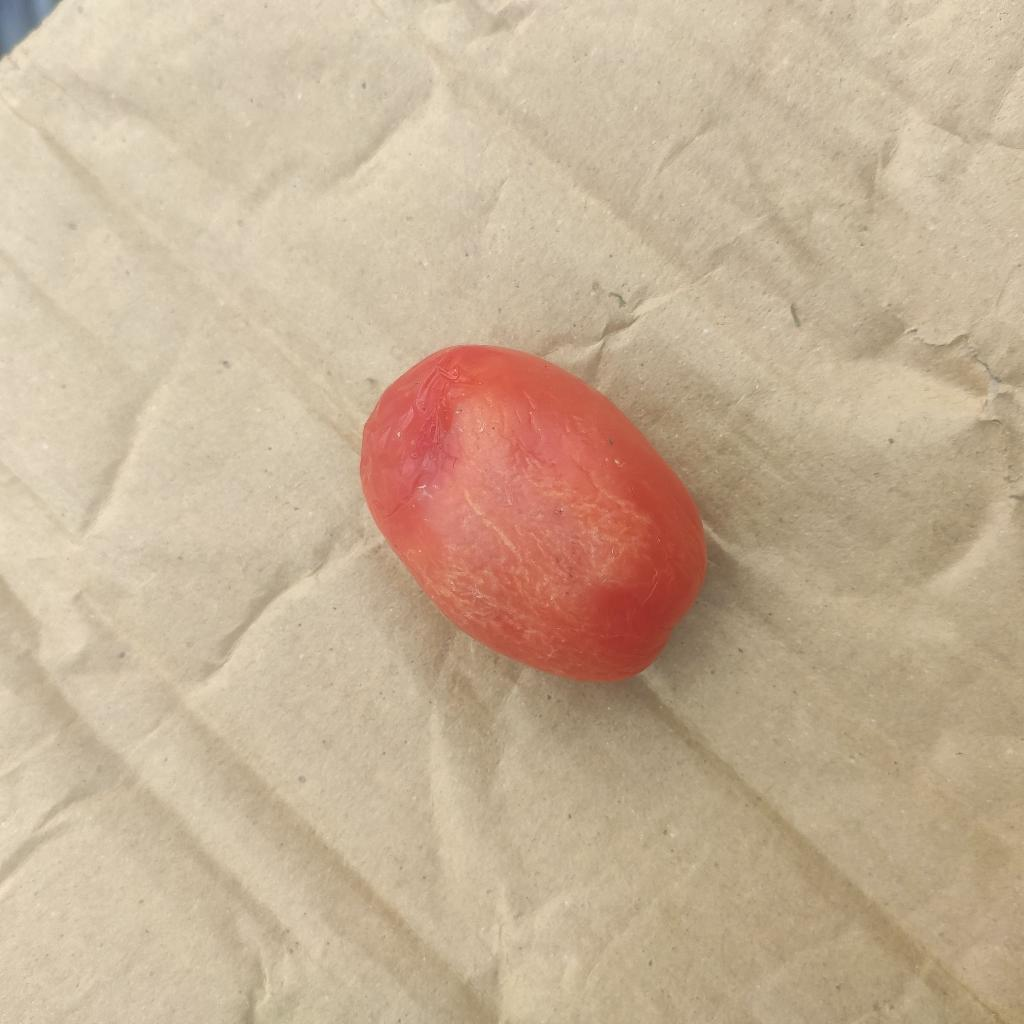bruise_discoloration: (363, 354, 452, 510)
tomato: (361, 346, 706, 680)
